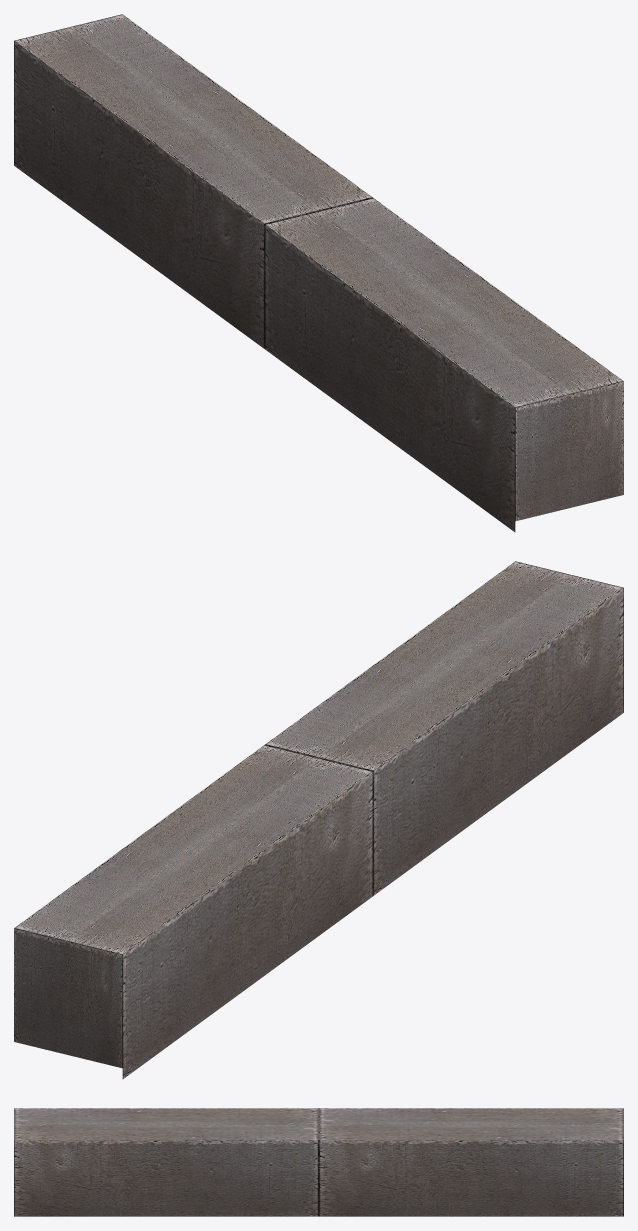
Rendered from M10_Zone1_ShortBarrier.glb.
3 views of the same model, one above another, from view 1: azimuth 30°, elevation 25°; view 2: azimuth 150°, elevation 25°; view 3: azimuth 270°, elevation 25° (orthographic). The views are drawn at different scales.
Parts seen in each view (by area): view 1: M10_ZONE1_SHORTBARRIER; view 2: M10_ZONE1_SHORTBARRIER; view 3: M10_ZONE1_SHORTBARRIER.
Part boxes in pixels (x1,y1,x2,y2): M10_ZONE1_SHORTBARRIER: [14, 14, 623, 532]; M10_ZONE1_SHORTBARRIER: [14, 561, 623, 1079]; M10_ZONE1_SHORTBARRIER: [14, 1108, 623, 1216].
Bounding box in the file's own units: 1 × 1.1 × 8.
1 material, 1 textured.
